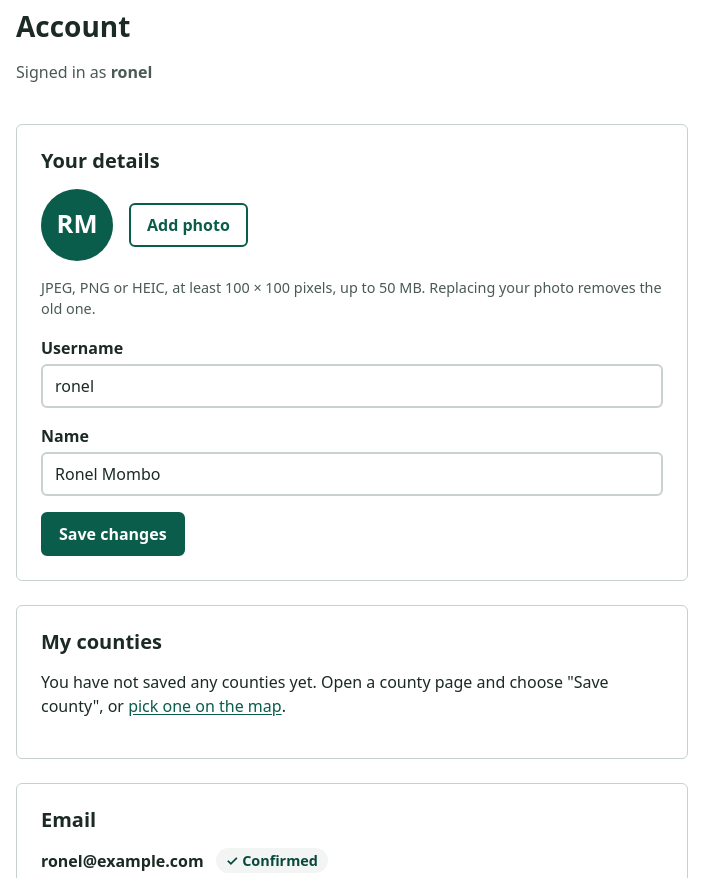
Test: Profile page: details › shows the server message when the username is taken
Click the button "Save changes". click: click(113, 534)
box: top-left (41, 512), bottom-right (185, 556)
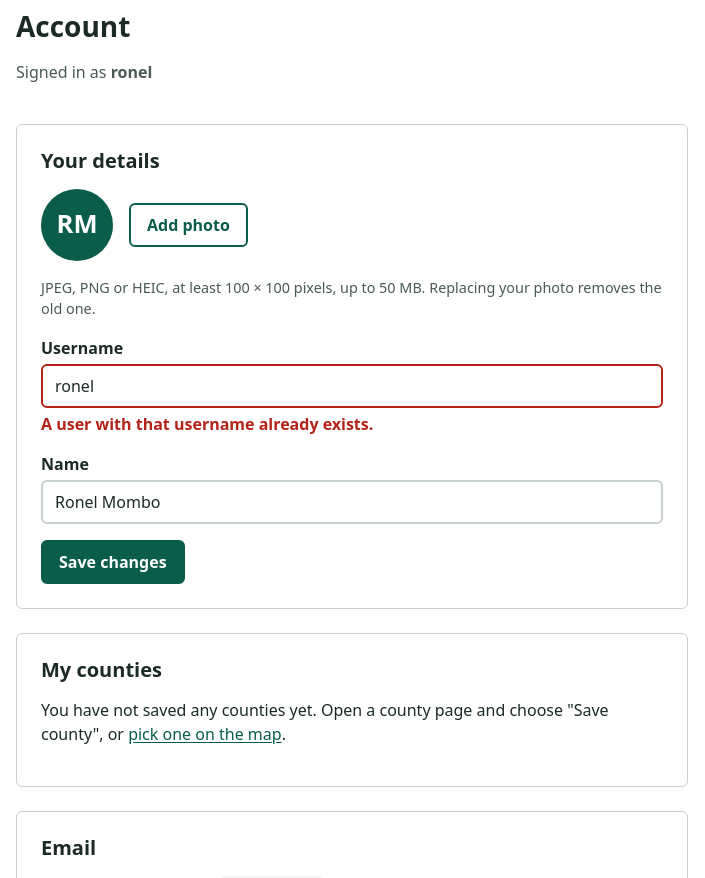
Check: the text "A user with that username already exists." is shown, box top-left (41, 413), bottom-right (373, 435)
